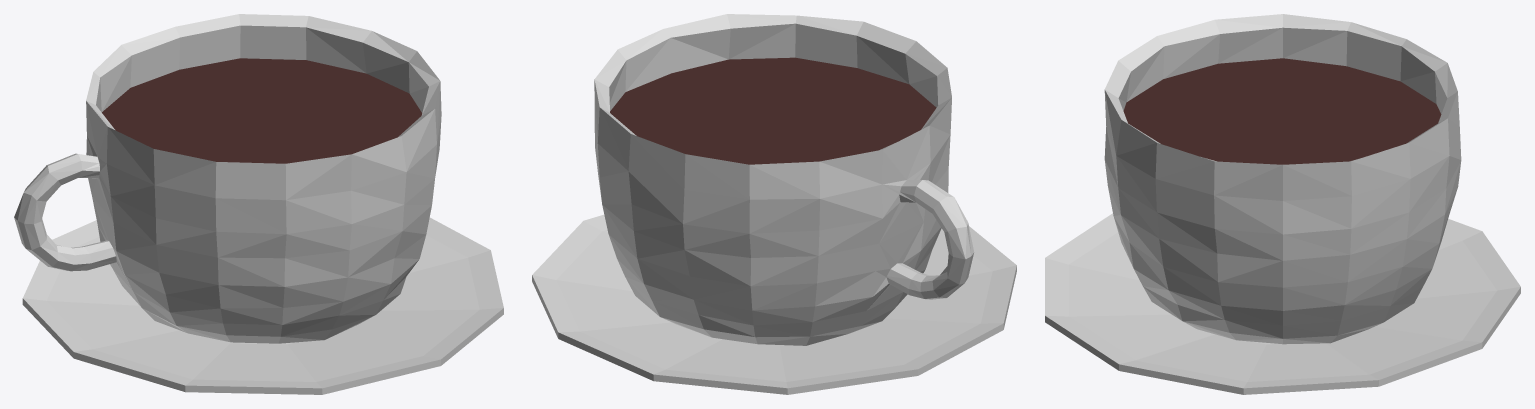
Rendered from cup.glb.
The picture shows the model from 3 angles, left to right: view 1: azimuth 30°, elevation 25°; view 2: azimuth 150°, elevation 25°; view 3: azimuth 270°, elevation 25°; orthographic projection.
Visible parts, largest first — view 1: Circle; view 2: Circle; view 3: Circle.
Part boxes in pixels (bbox=[...]): Circle: bbox=[14, 14, 503, 394]; Circle: bbox=[532, 14, 1016, 394]; Circle: bbox=[1045, 14, 1520, 394].
Bounding box in the file's own units: 3.67 × 1.76 × 3.53.
